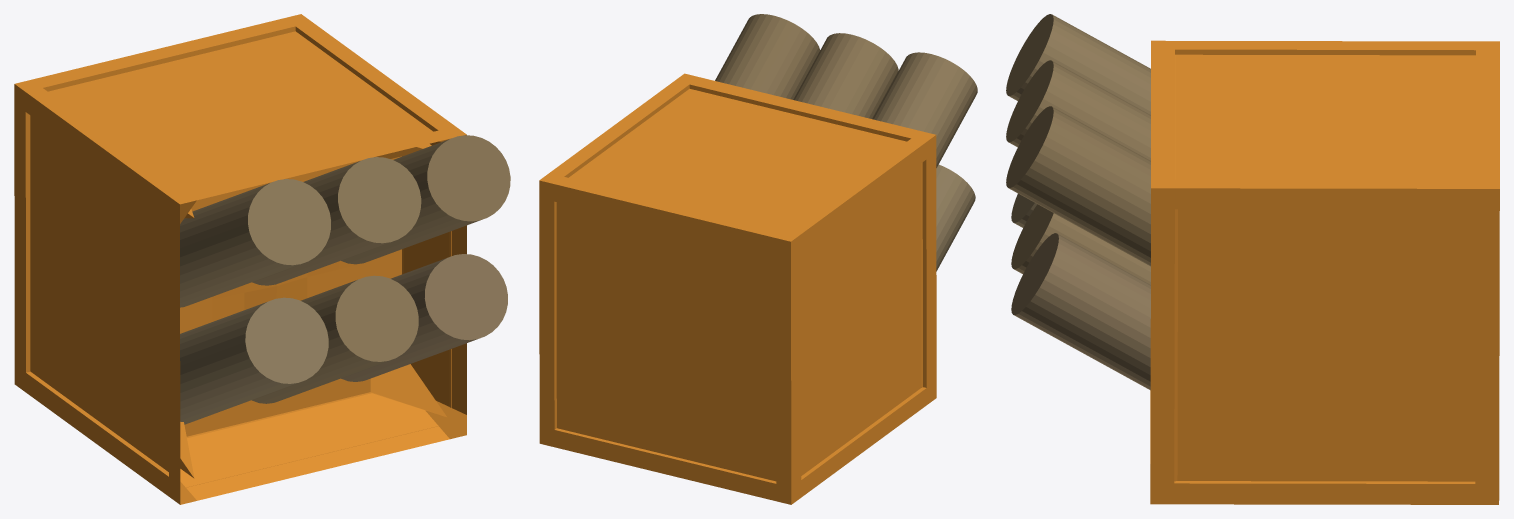
Rendered from holzstaebe.gltf.
3 views of the same model, side by side, from view 1: azimuth 30°, elevation 25°; view 2: azimuth 150°, elevation 25°; view 3: azimuth 270°, elevation 25° (orthographic). The views are drawn at different scales.
Parts seen in each view (by area): view 1: Crate, Cylinder.014, Cylinder.004, Cylinder.013, Cylinder.003, Cylinder.010, Cylinder; view 2: Crate, Cylinder.014, Cylinder.013, Cylinder.010, Cylinder.004; view 3: Crate, Cylinder.010, Cylinder, Cylinder.014, Cylinder.013, Cylinder.003, Cylinder.004.
Boxes of the visible parts, x1=… form: Crate: x1=14, y1=14, x2=466, y2=504; Cylinder.014: x1=180, y1=179, x2=330, y2=307; Cylinder.004: x1=180, y1=297, x2=328, y2=424; Cylinder.013: x1=252, y1=157, x2=421, y2=285; Cylinder.003: x1=252, y1=275, x2=418, y2=403; Cylinder.010: x1=341, y1=135, x2=510, y2=264; Cylinder: x1=341, y1=254, x2=507, y2=381; Crate: x1=539, y1=73, x2=936, y2=504; Cylinder.014: x1=872, y1=52, x2=977, y2=167; Cylinder.013: x1=793, y1=33, x2=898, y2=118; Cylinder.010: x1=715, y1=14, x2=820, y2=99; Cylinder.004: x1=936, y1=164, x2=975, y2=271; Crate: x1=1150, y1=40, x2=1499, y2=504; Cylinder.010: x1=1006, y1=106, x2=1150, y2=266; Cylinder: x1=1011, y1=233, x2=1150, y2=390; Cylinder.014: x1=1006, y1=14, x2=1150, y2=114; Cylinder.013: x1=1006, y1=60, x2=1150, y2=160; Cylinder.003: x1=1011, y1=204, x2=1150, y2=284; Cylinder.004: x1=1011, y1=193, x2=1037, y2=227.
Size of the model in its own units: 0.3001 by 0.3463 by 0.4247.
